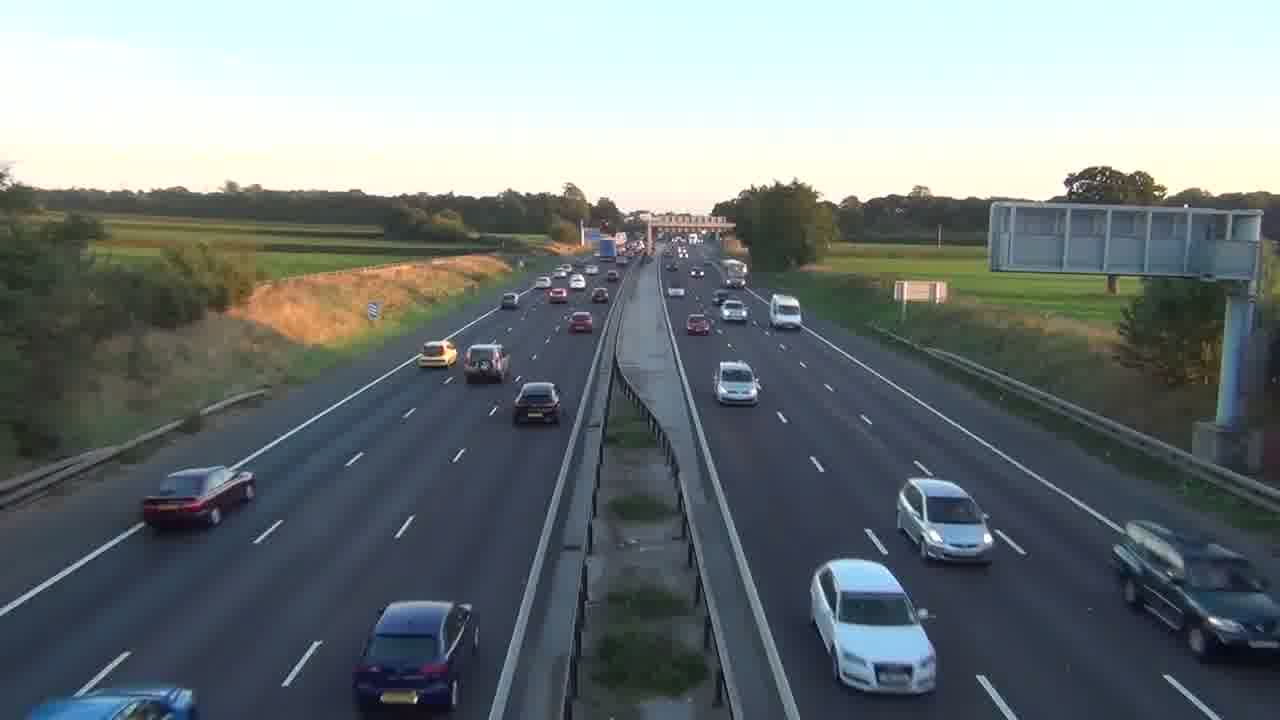car: (809, 557, 939, 696), (351, 599, 481, 713), (25, 684, 198, 720), (512, 380, 562, 424), (714, 360, 761, 406), (416, 340, 459, 370), (686, 312, 713, 336), (567, 311, 593, 334)
truck: (1110, 519, 1280, 664), (895, 476, 995, 564), (141, 464, 257, 530), (768, 293, 803, 331)
